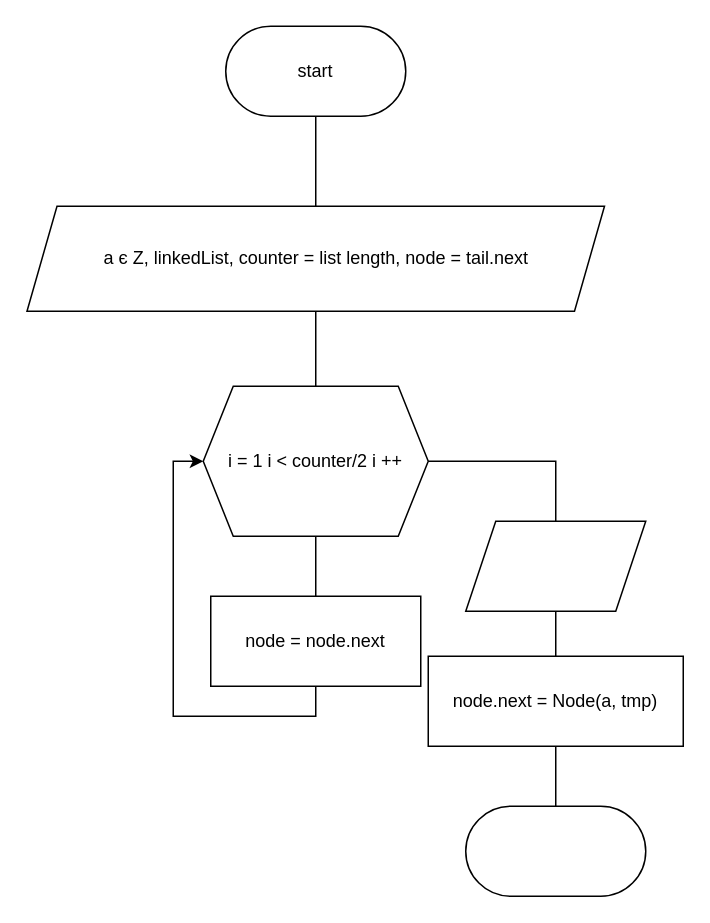
This 710x923 diagram has some shape labels left out. The shapes that lost their labels are listed below. From the top down, each one's centre as x and y in pixels, then its label:
At [555,565]: "tmp = node.next".
At [555,850]: "end".
